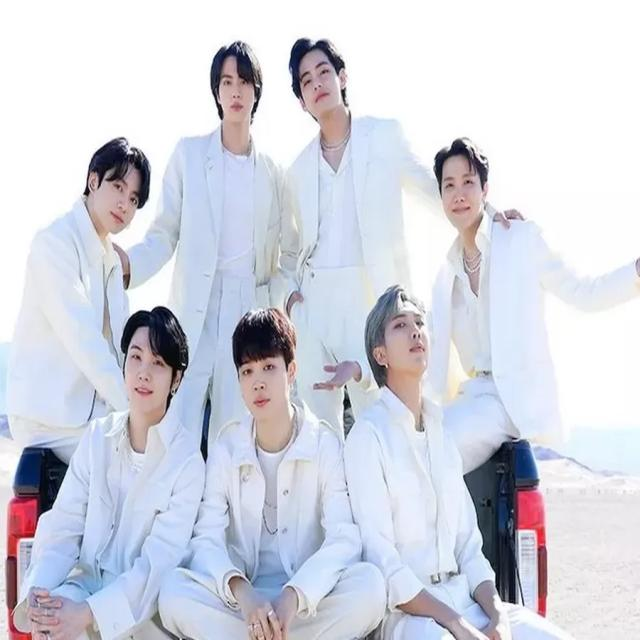sem_oculos: (122, 342, 184, 380), (91, 166, 148, 206), (234, 347, 298, 381), (378, 317, 433, 350), (294, 60, 343, 88), (215, 72, 258, 96), (439, 177, 490, 196)
